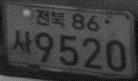0: (105, 38, 127, 72)
2: (81, 35, 103, 70)
5: (59, 32, 79, 66)
6: (85, 14, 100, 32)
8: (70, 12, 85, 31)
9: (33, 30, 53, 64)
사: (10, 28, 33, 57)
전북_H: (34, 7, 65, 29)
